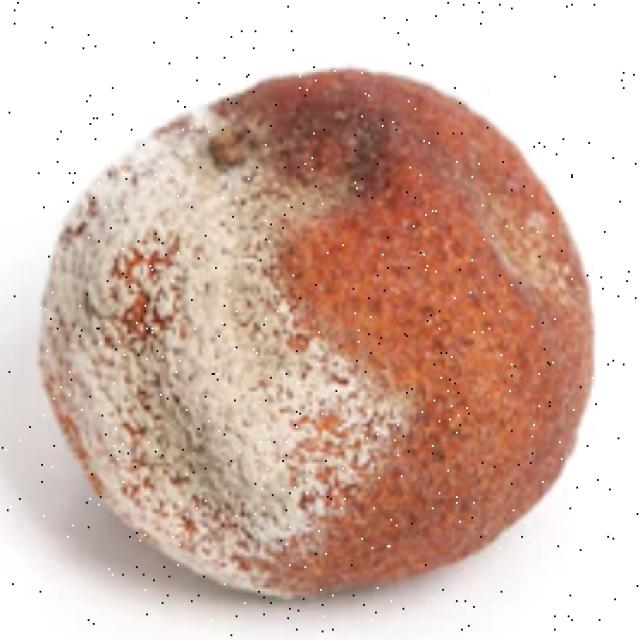Organik: (37, 50, 601, 607)
